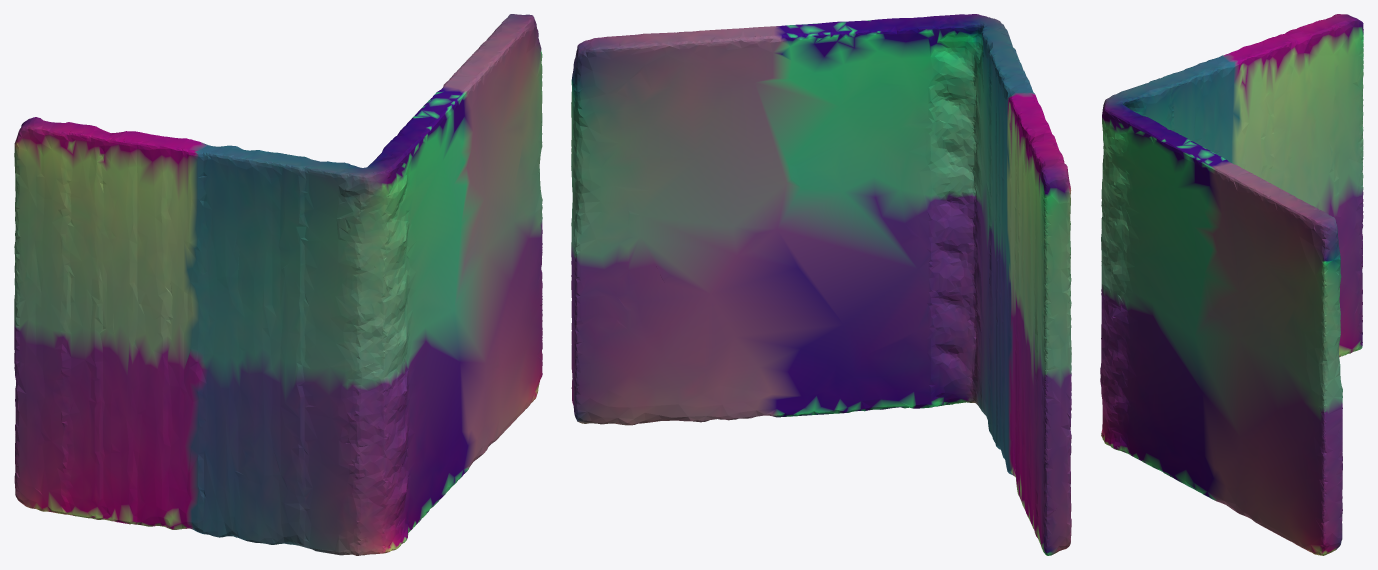
The model's file is paper-3.off.obj.
3 renders of one model, left to right at view 1: azimuth 30°, elevation 25°; view 2: azimuth 150°, elevation 25°; view 3: azimuth 270°, elevation 25°, orthographic. The views are drawn at different scales.
Size of the model in its own units: 1.39 by 0.9961 by 0.7097.
